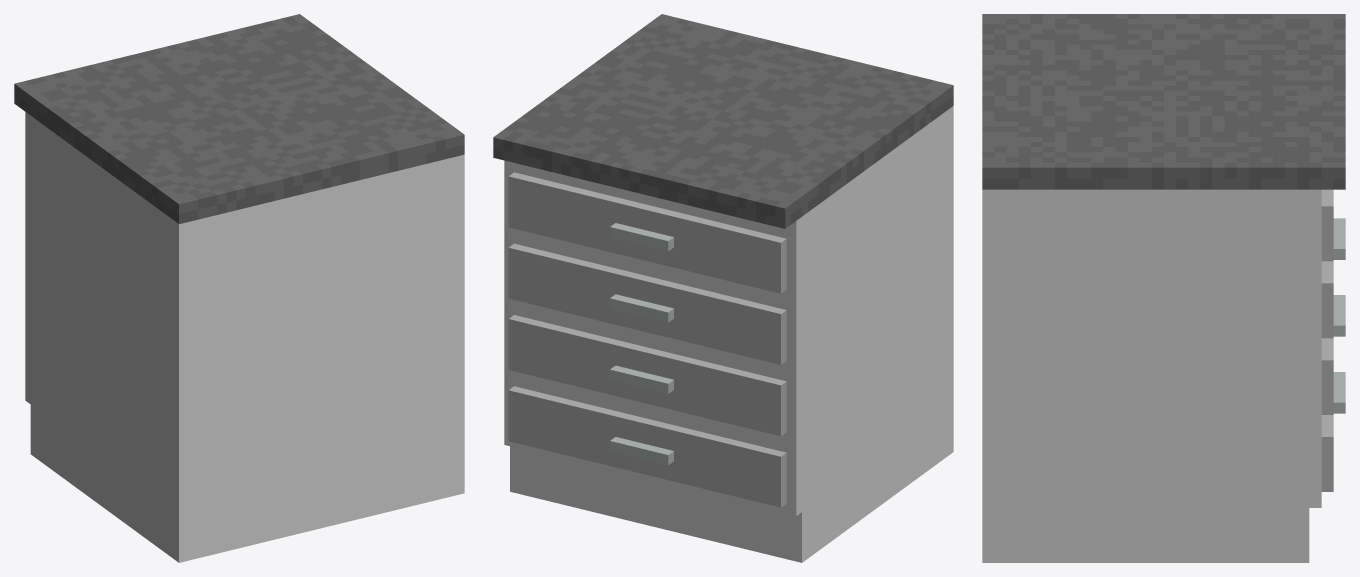
The model's file is countertop_01.dae.
3 views of the same model, side by side, from view 1: azimuth 30°, elevation 25°; view 2: azimuth 150°, elevation 25°; view 3: azimuth 270°, elevation 25° (orthographic). The views are drawn at different scales.
Parts seen in each view (by area): view 1: Untitled; view 2: Untitled; view 3: Untitled.
Part boxes in pixels (bbox=[...]): Untitled: bbox=[14, 14, 464, 562]; Untitled: bbox=[493, 14, 953, 562]; Untitled: bbox=[982, 14, 1345, 562].
Size of the model in its own units: 0.9 by 0.9 by 1.08.
Materials: 1 (1 with a texture image).
